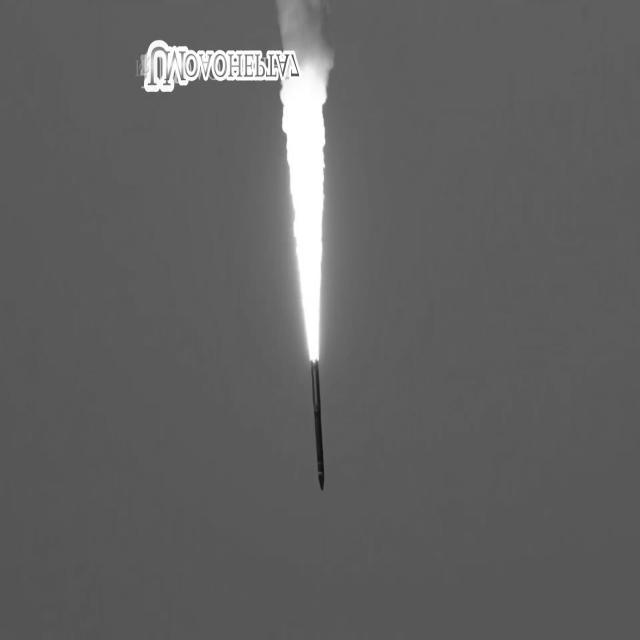missile: (305, 352, 327, 499)
